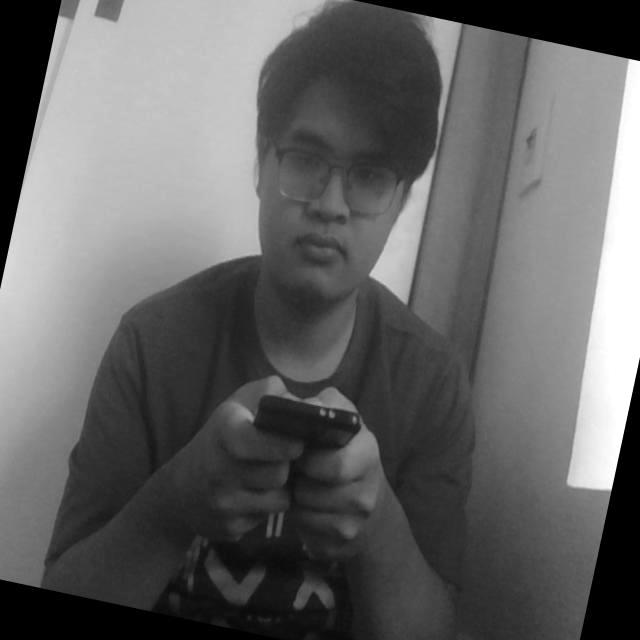phone: (229, 368, 380, 484)
